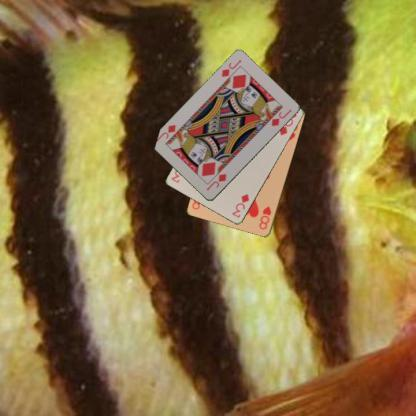3d: (230, 191, 250, 219)
8h: (256, 204, 272, 231)
Jd: (203, 172, 228, 192), (220, 58, 242, 78)
